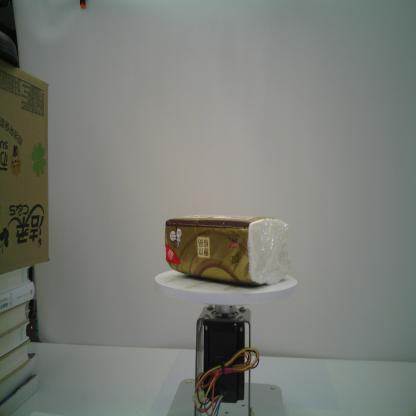Tissue: (165, 213, 292, 287)
